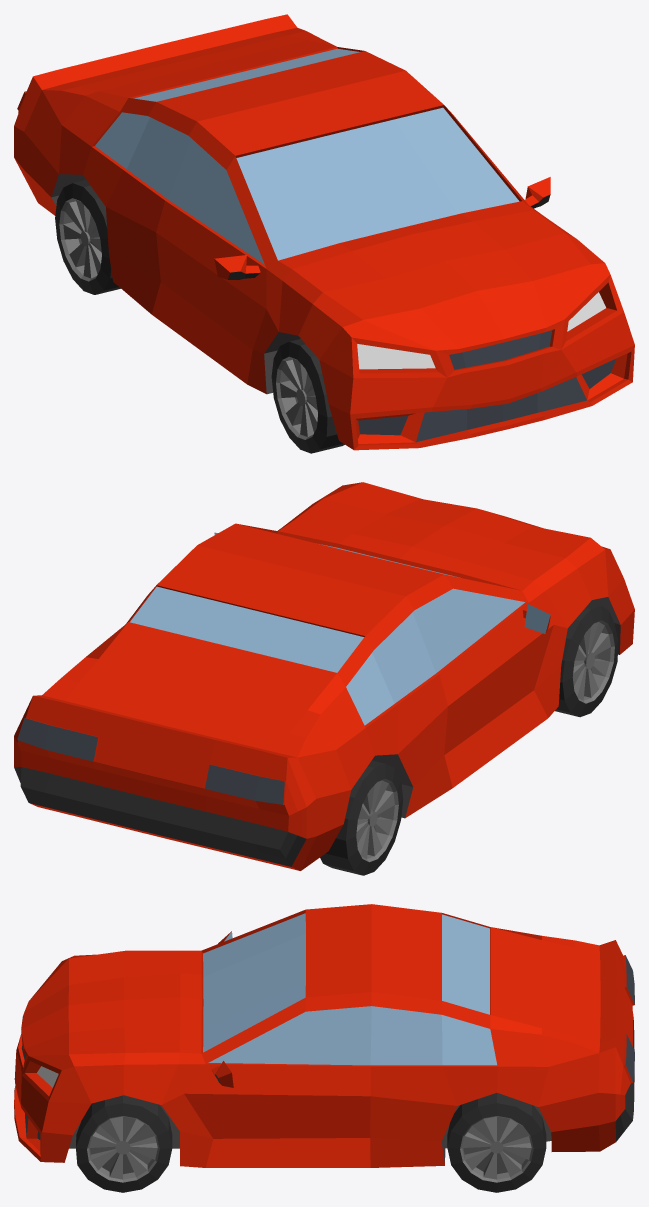
File: car6.fbx
The picture shows the model from 3 angles, top to bottom: view 1: azimuth 30°, elevation 25°; view 2: azimuth 150°, elevation 25°; view 3: azimuth 270°, elevation 25°; orthographic projection. The views are drawn at different scales.
Visible parts, largest first — view 1: Cube.001; view 2: Cube.001; view 3: Cube.001.
Boxes of the visible parts, <box> form: Cube.001: <box>14,14,634,453</box>; Cube.001: <box>14,482,634,875</box>; Cube.001: <box>14,904,634,1192</box>.
Bounding box in the file's own units: 118 × 71 × 218.
